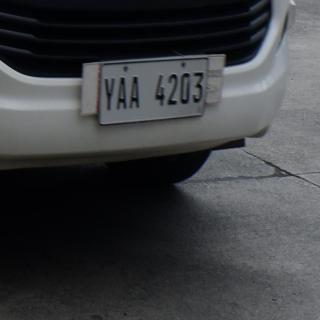license: (99, 58, 209, 126)
